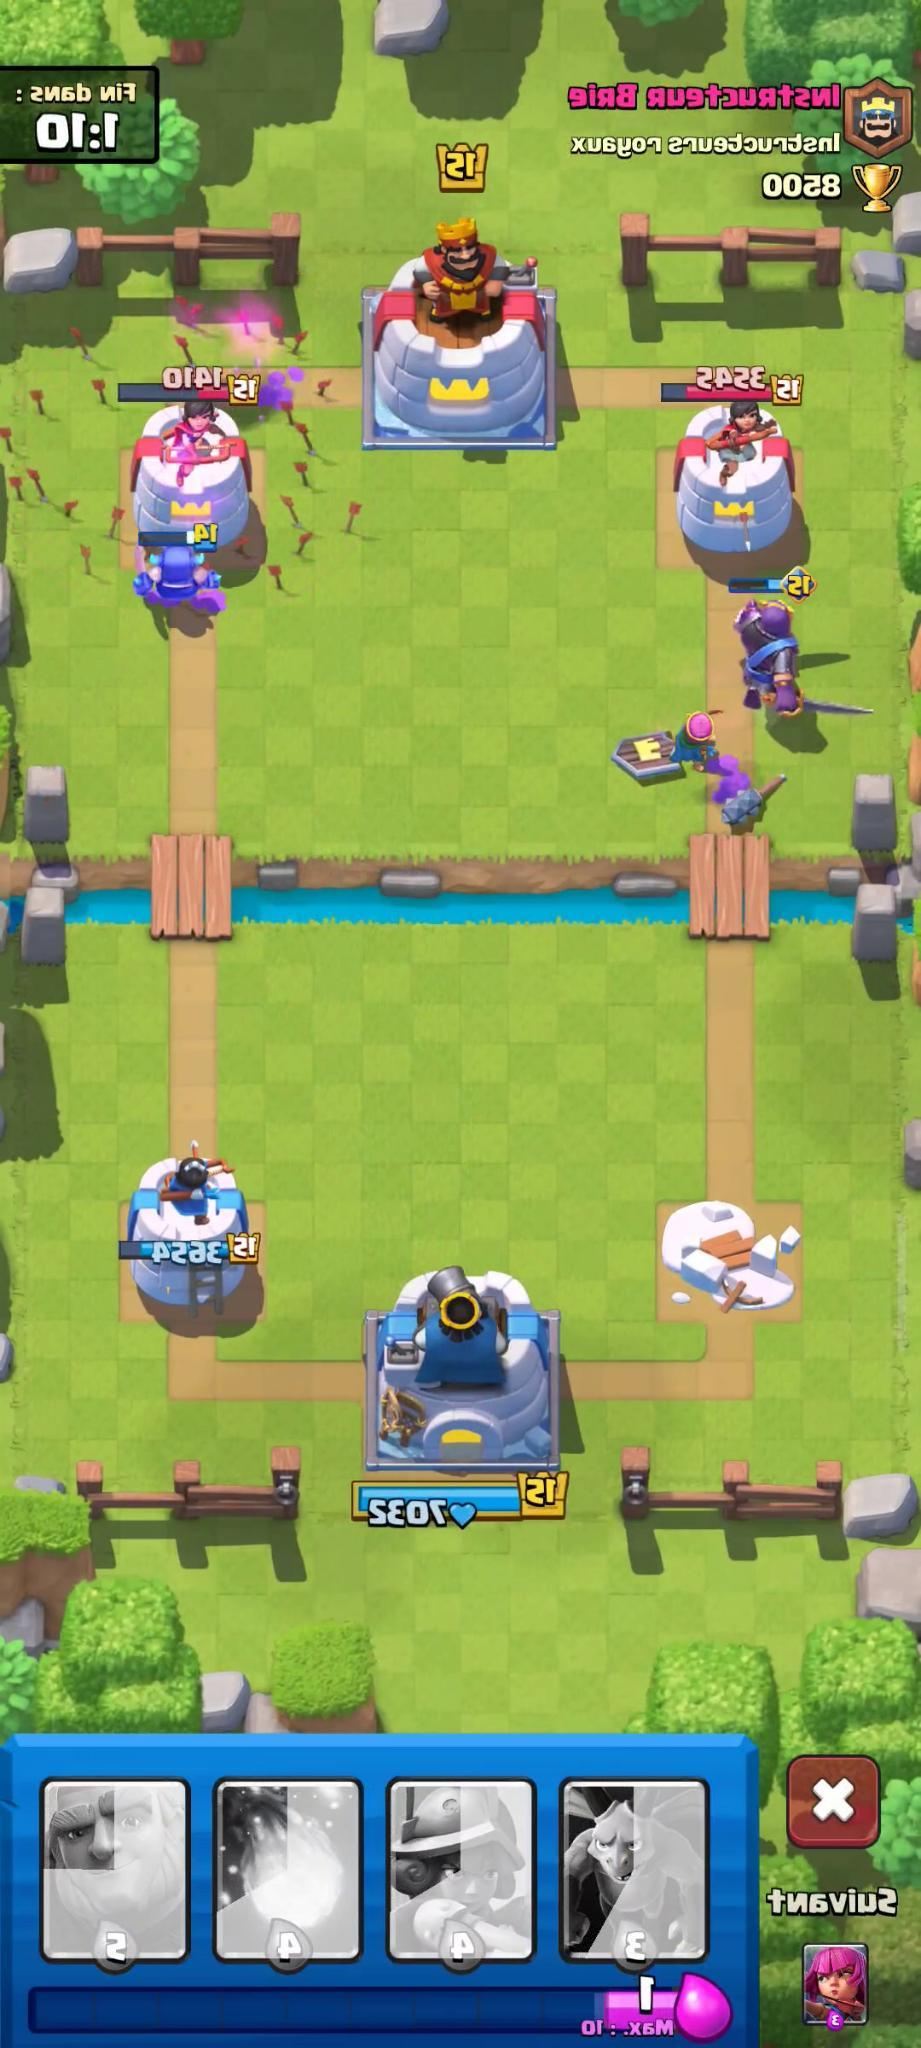player_archers: (666, 708, 718, 775)
player_evo_knight: (720, 560, 870, 768)
player_mini_pekka: (125, 528, 238, 625)
